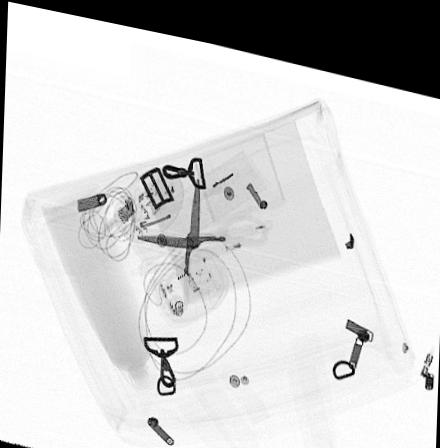Scissors: (134, 166, 271, 315)
